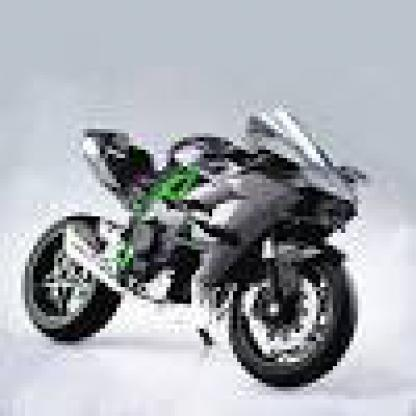Motorcycle: (21, 105, 373, 392)
